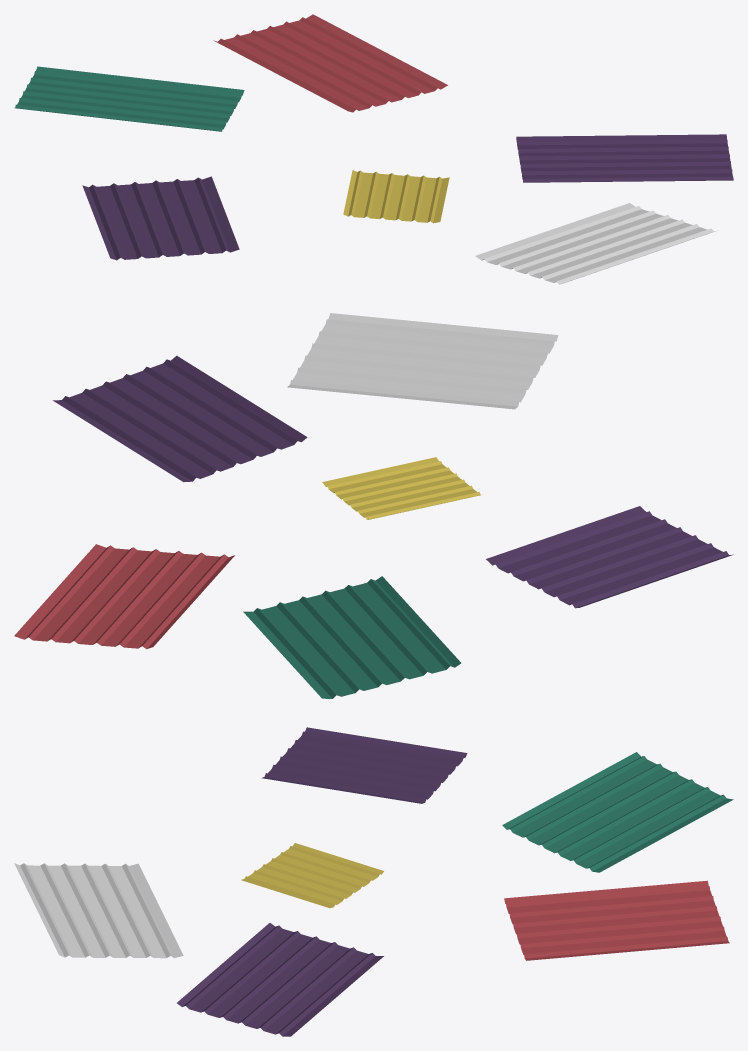
The model's file is PGJ_Chapas_separadas_2.glb.
3 renders of one model, top to bottom at view 1: azimuth 30°, elevation 25°; view 2: azimuth 150°, elevation 25°; view 3: azimuth 270°, elevation 25°, orthographic. The views are drawn at different scales.
Parts seen in each view (by area): view 1: Chapa, Chapa.004, Chapa.001, Chapa.003, Chapa.005, Chapa.002; view 2: Chapa.005, Chapa.004, Chapa.003, Chapa, Chapa.001, Chapa.002; view 3: Chapa.003, Chapa, Chapa.004, Chapa.005, Chapa.001, Chapa.002.
Boxes of the visible parts, left/top/right/bottom form: Chapa: left=213, top=14, right=447, bottom=112; Chapa.004: left=516, top=134, right=733, bottom=182; Chapa.001: left=82, top=176, right=239, bottom=260; Chapa.003: left=14, top=66, right=244, bottom=131; Chapa.005: left=475, top=203, right=715, bottom=284; Chapa.002: left=343, top=170, right=449, bottom=223; Chapa.005: left=287, top=313, right=558, bottom=409; Chapa.004: left=53, top=355, right=307, bottom=482; Chapa.003: left=243, top=576, right=461, bottom=698; Chapa: left=14, top=544, right=234, bottom=649; Chapa.001: left=486, top=506, right=733, bottom=608; Chapa.002: left=322, top=457, right=480, bottom=519; Chapa.003: left=502, top=752, right=733, bottom=872; Chapa: left=504, top=880, right=729, bottom=960; Chapa.004: left=177, top=923, right=383, bottom=1036; Chapa.005: left=14, top=863, right=183, bottom=958; Chapa.001: left=261, top=727, right=467, bottom=803; Chapa.002: left=241, top=843, right=383, bottom=908.
Size of the model in its own units: 32.93 by 1.57 by 34.41.
